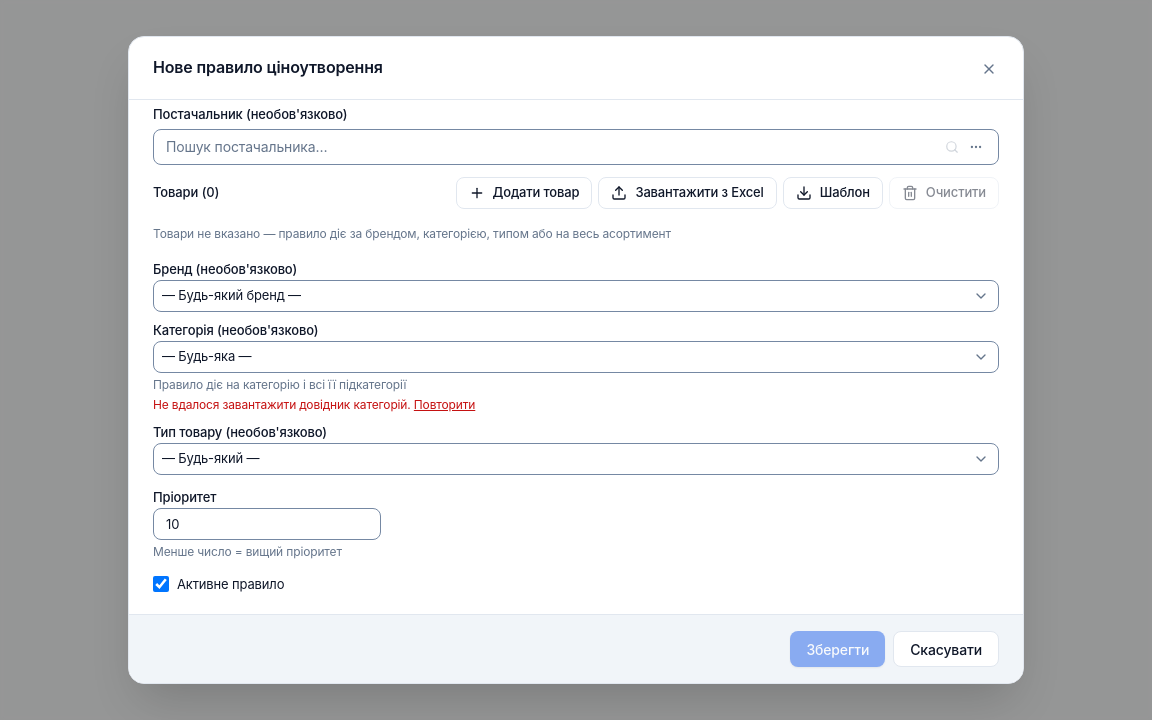
Test: RuleFormModal — категорія з довідника › довідник не завантажився → видима помилка і «Повторити», а не порожній список мовчки
(page scrolled)
Check: the text "Не вдалося завантажити довідник категорій. Повторити" is shown, box [153,396,475,414]
What coordinates should you click on to do the following:
click the button "Повторити"
I would click on:
 (445, 404)
Its box is [414,396,475,414].
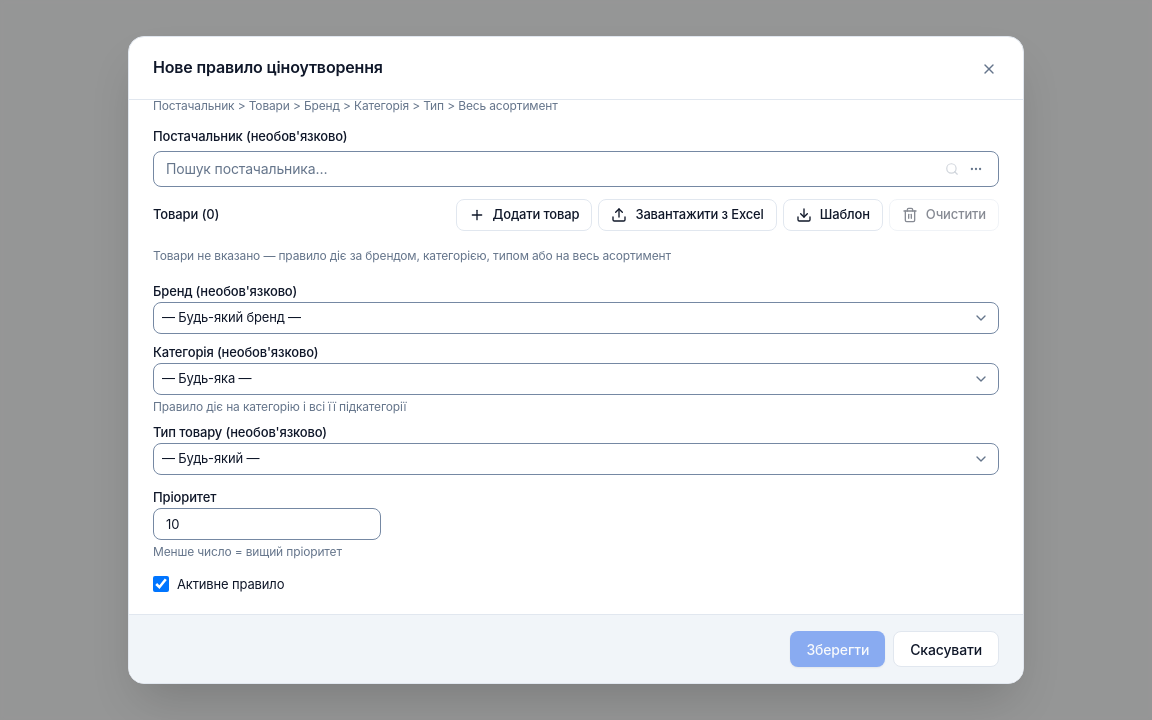
Check: the text "Не вдалося завантажити довідник категорій" is gone
